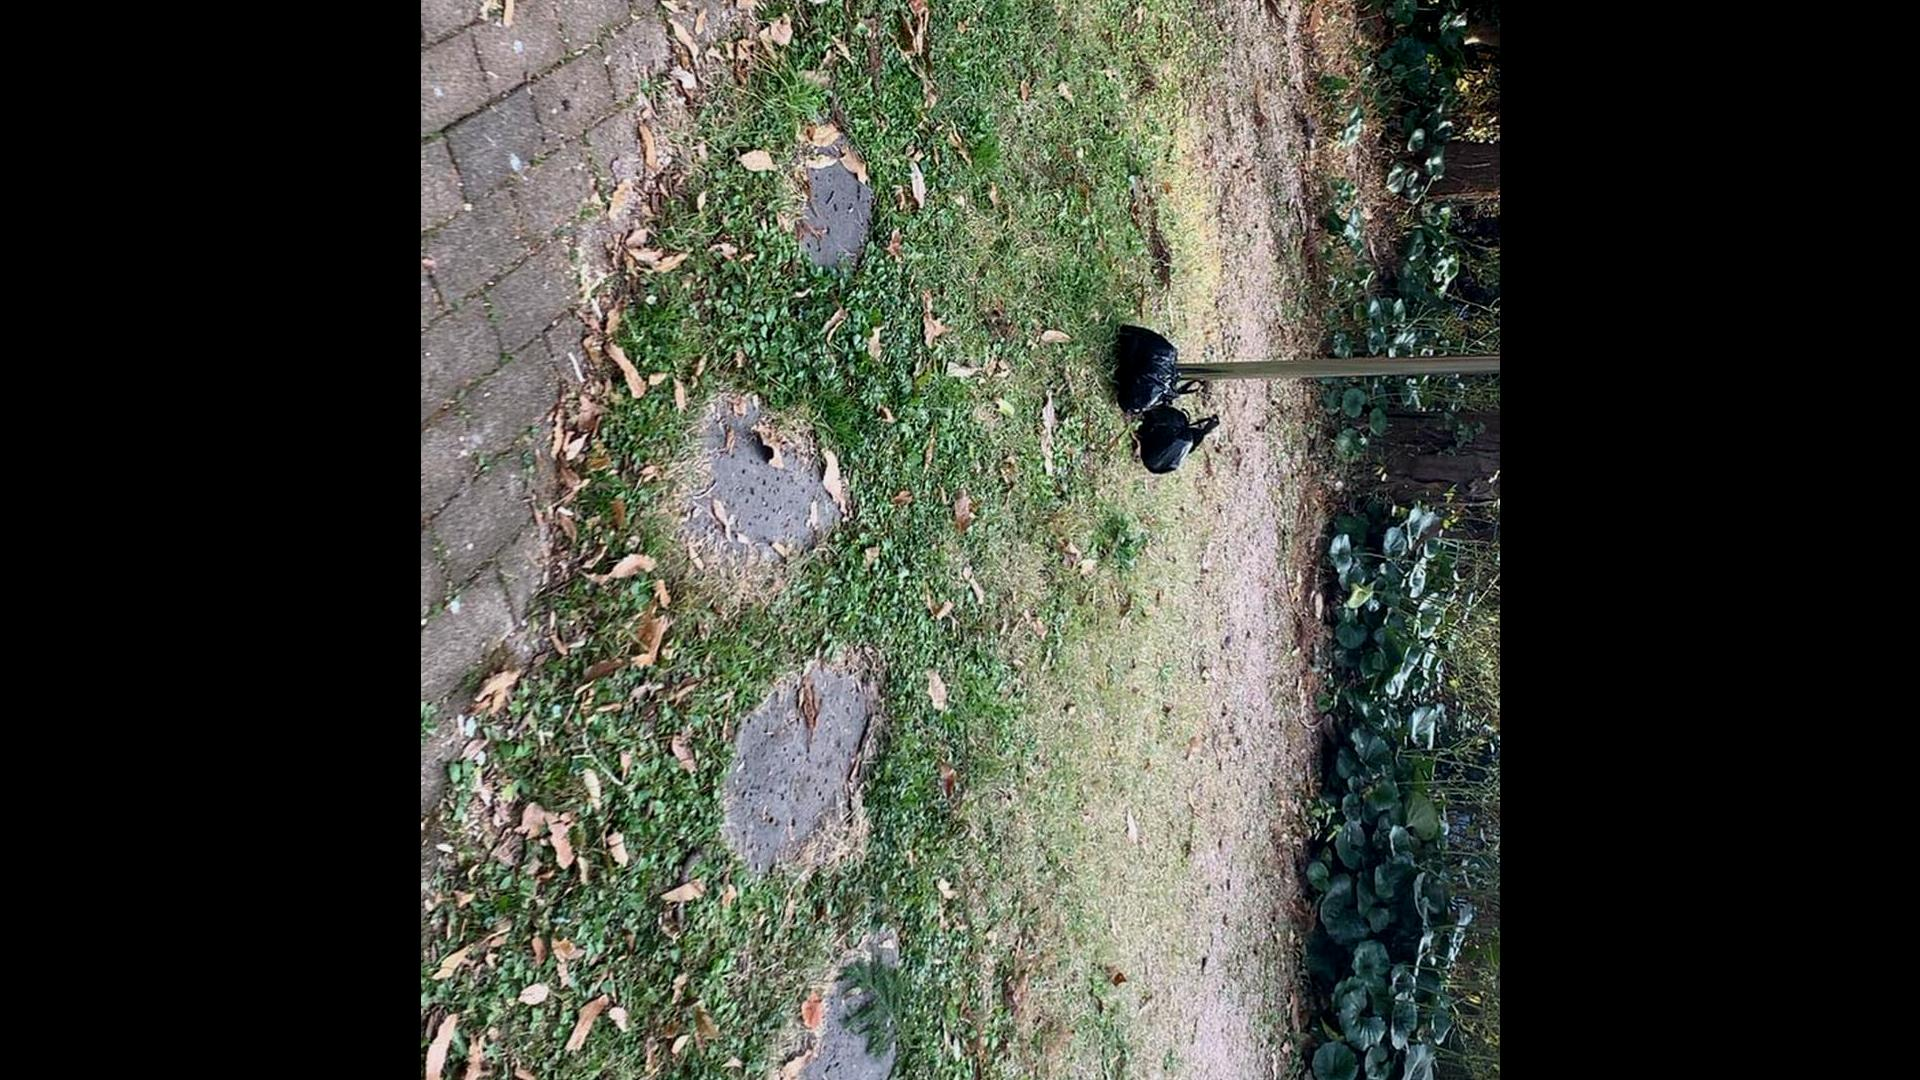black_bag: (1115, 321, 1205, 414), (1134, 405, 1219, 476)
